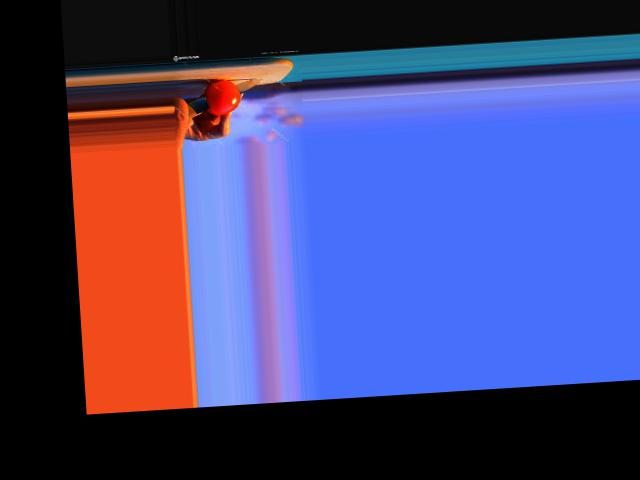tomato: (203, 78, 242, 115)
